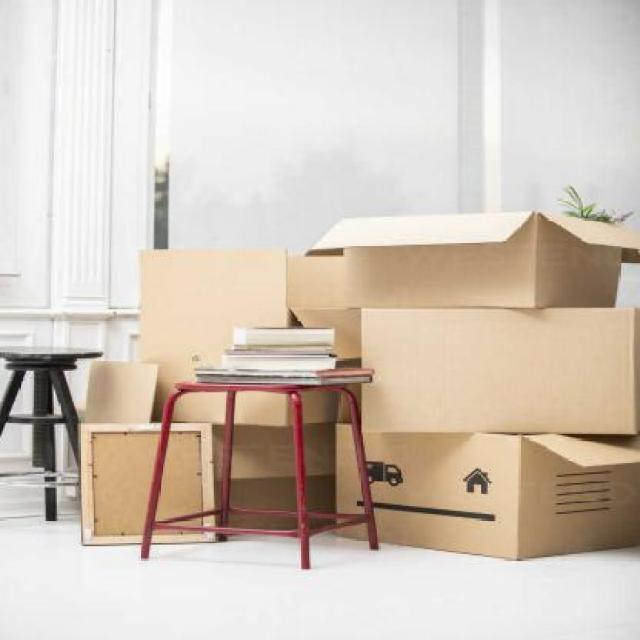box: (335, 422, 640, 561), (139, 248, 356, 419), (360, 305, 640, 432), (313, 212, 640, 312)
